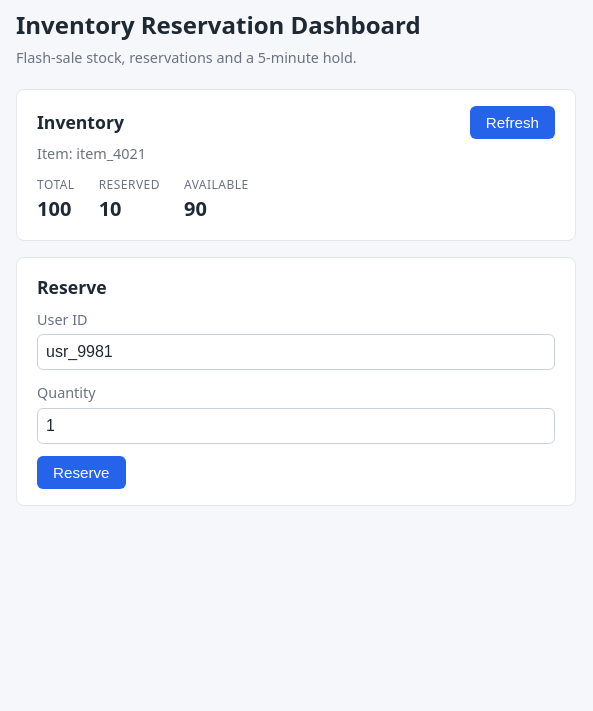
Scenario: App › runs the reserve then confirm workflow end to end
Expected: the text "100" is shown, x1=37 y1=194 x2=75 y2=224
Expected: the text "90" is shown, x1=184 y1=195 x2=207 y2=222
Replace the text in the number field labelled "Quantity" with "3": (296,426) x1=37 y1=408 x2=555 y2=444
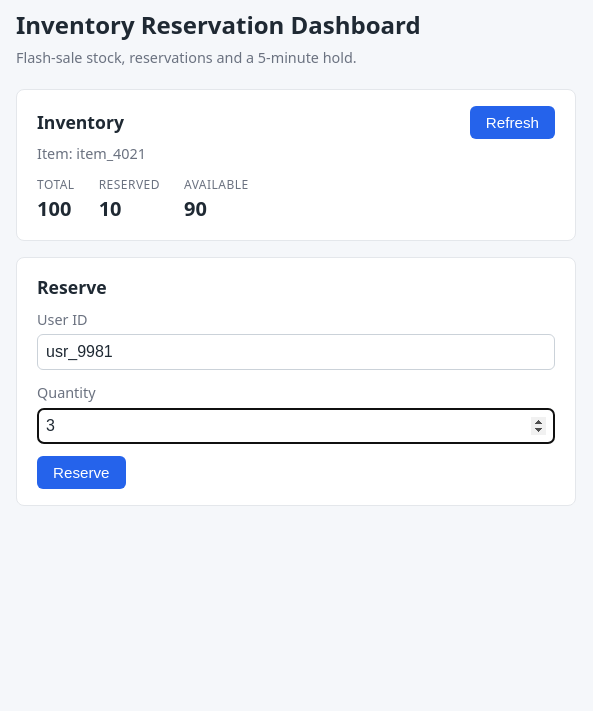
Click the button "Reserve": (81,472) x1=37 y1=456 x2=126 y2=489
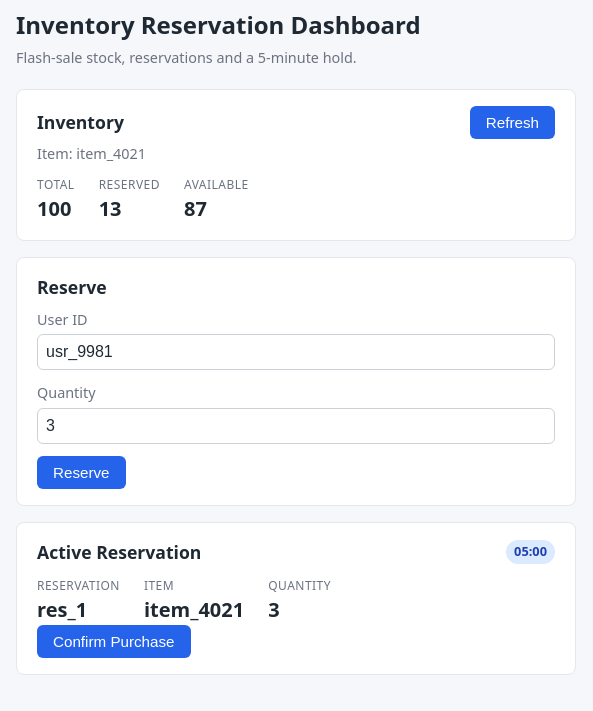
Now the heading "Active Reservation" is shown, box x1=37 y1=539 x2=201 y2=565
Now the text "05:00" is shown, box x1=506 y1=540 x2=555 y2=564
Now the text "13" is shown, box x1=99 y1=195 x2=122 y2=222
Click the button "Confirm Purchase": (114,642) x1=37 y1=625 x2=190 y2=658
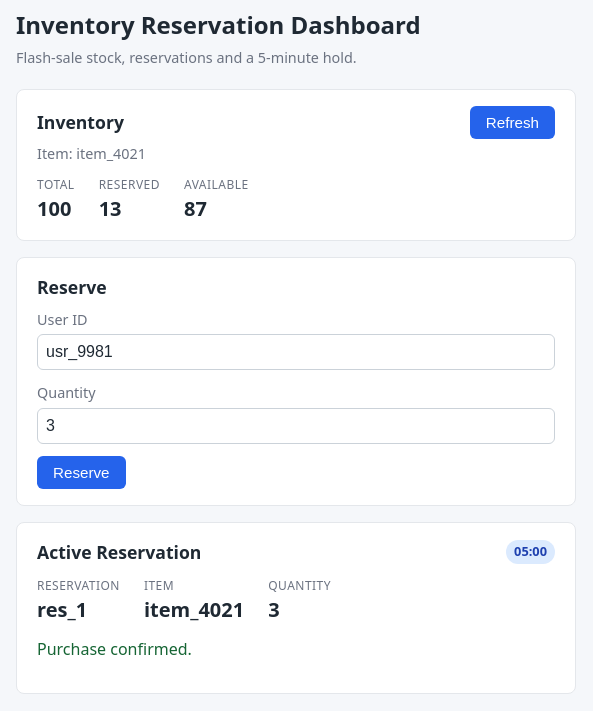
Now the text "Purchase confirmed." is shown, box x1=37 y1=638 x2=192 y2=660
